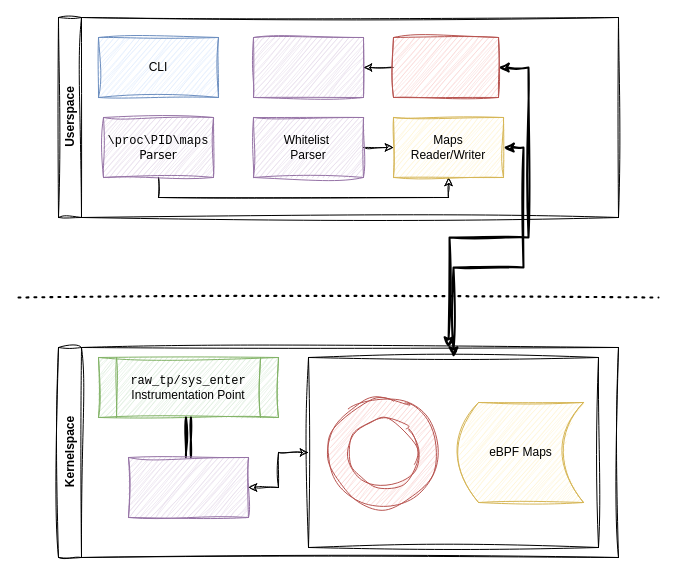
Image size: 677x575. Some labels were removed from this diagram. Here are the shapes that lost their labels. From the top down, the centre of each, then its label:
the point at 308,67: Userspace Intervention
the point at 445,67: Ringbuffer Reader
the point at 383,452: Warn Ringbuffer
the point at 188,487: addrfilter core filtering logic
